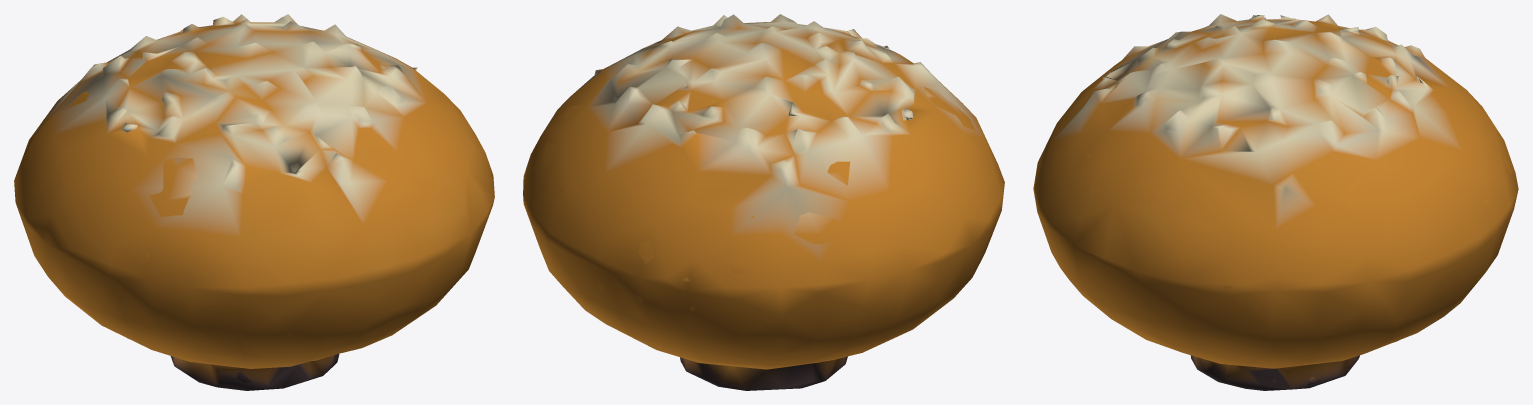
File: gen3d-bun-lod1.glb
3 views of the same model, side by side, from view 1: azimuth 30°, elevation 25°; view 2: azimuth 150°, elevation 25°; view 3: azimuth 270°, elevation 25° (orthographic).
Visible parts, largest first — view 1: part_0; view 2: part_0; view 3: part_0.
Boxes of the visible parts, bbox=[...] form: part_0: bbox=[14, 14, 494, 390]; part_0: bbox=[523, 14, 1004, 390]; part_0: bbox=[1033, 14, 1518, 390].
Size of the model in its own units: 1.39 by 0.9993 by 1.39.
